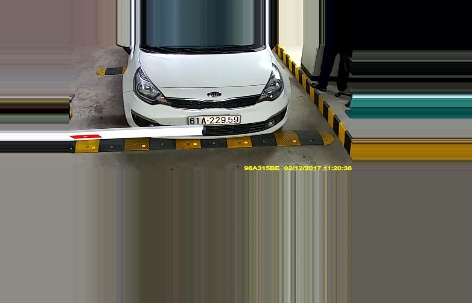plate: (188, 114, 239, 127)
